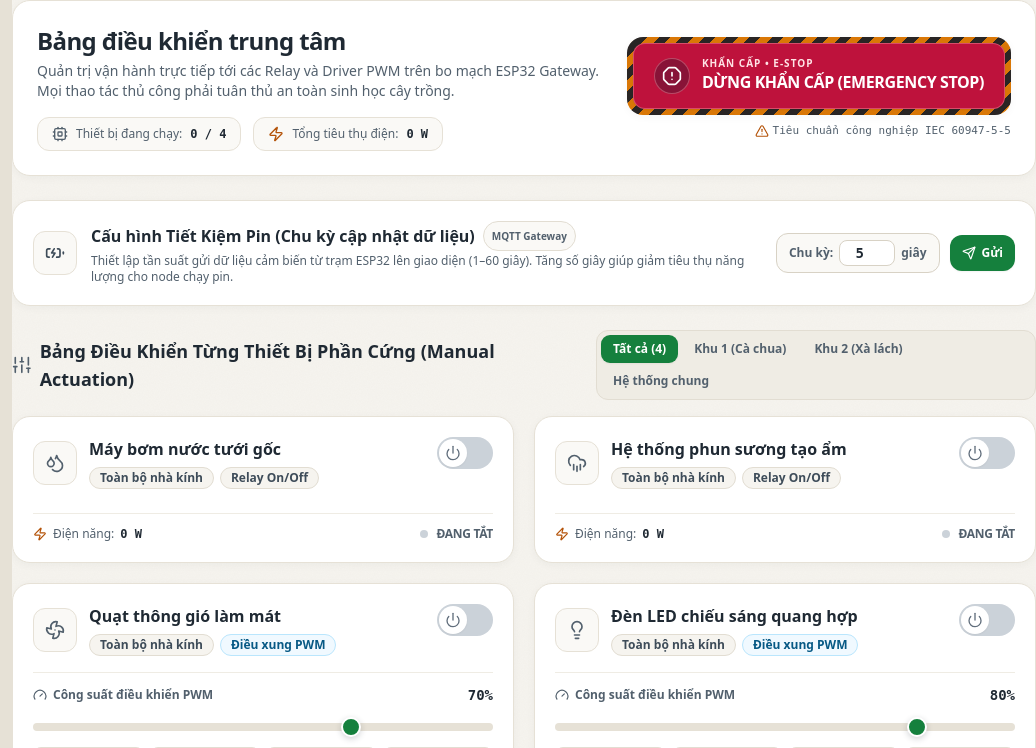
Test: ControlsPage Hardware Actuation › renders 4 hardware actuators and toggles state
expect the heading "Máy bơm nước tưới gốc" is shown: met, box [89, 438, 281, 460]
expect the heading "Hệ thống phun sương tạo ẩm" is shown: met, box [611, 437, 847, 461]
Click the button named "Bật tắt Máy bơm nước tưới gốc" at (465, 453), box [437, 437, 493, 469]
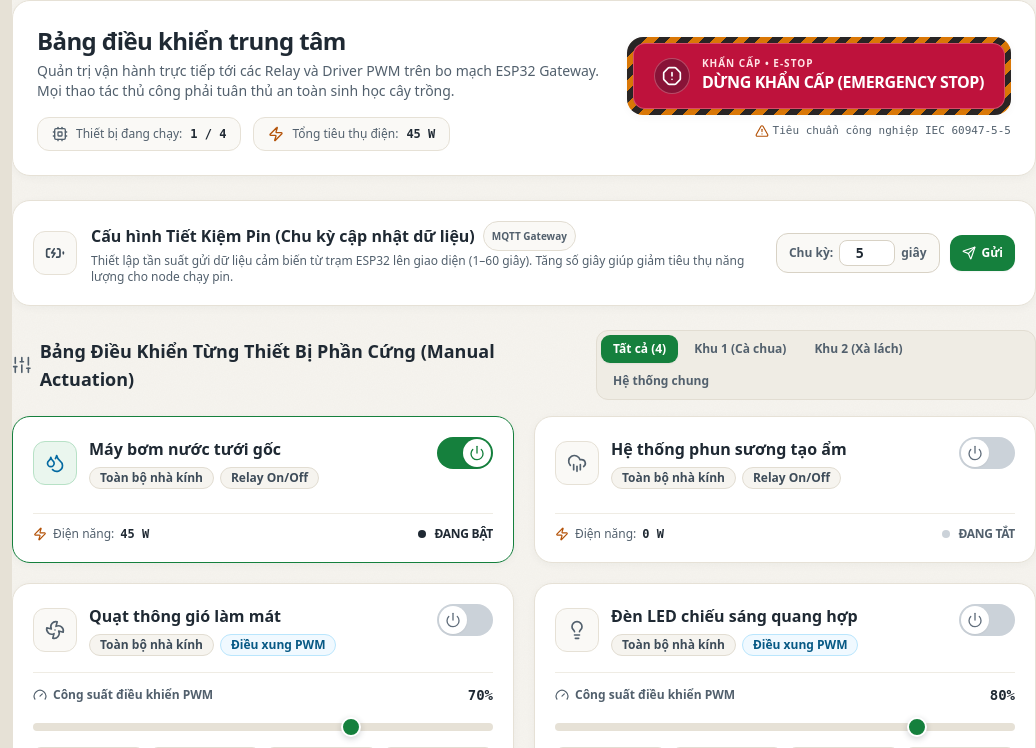
expect the text "ĐANG BẬT" is shown: met, box [434, 526, 493, 542]
